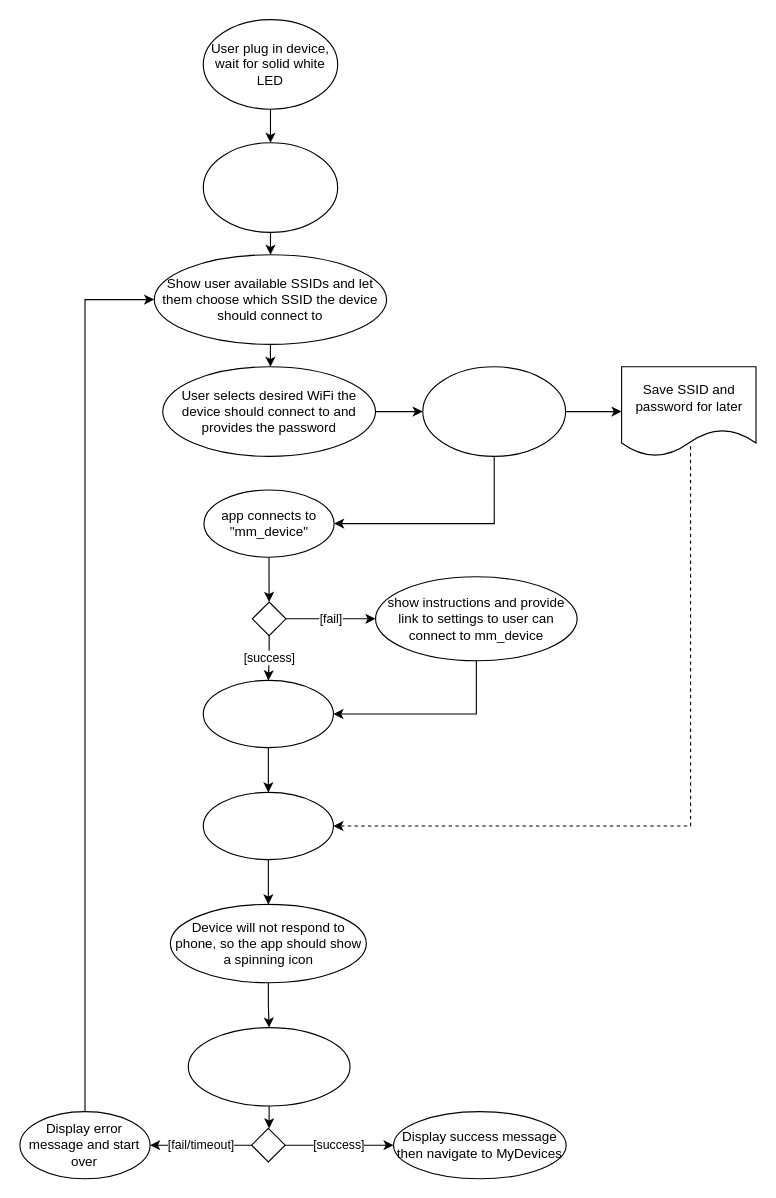
The diagram is 776 pixels wide and 1198 high, and some of its shapes have lost their labels. The shapes that lost their labels are listed below. From the top down, each one's box as (x1, y1, x2, y2) in pixels, then its label:
(202, 142, 338, 232): User press reset button until LED flashes blue
(422, 366, 566, 456): Ask the user for the password for the chosen network
(202, 679, 333, 748): phone connected to "mm_device"
(202, 791, 333, 860): Call API to configure device
(187, 1026, 350, 1106): Phone should check for owner record to be updated in cloud
